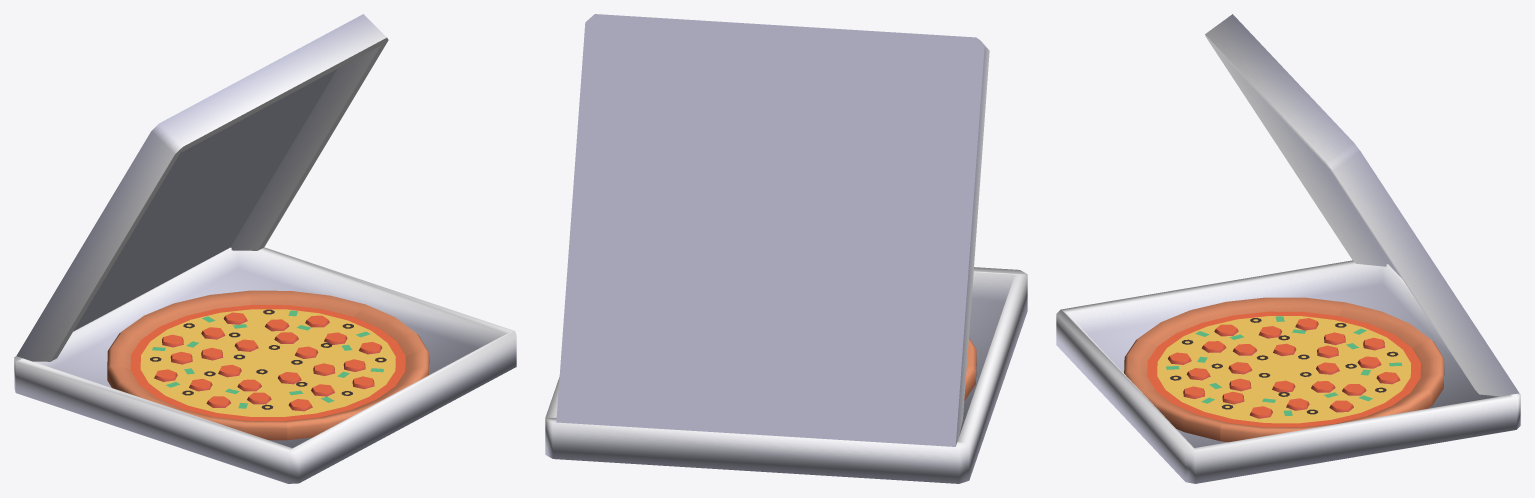
Rendered from pizza_02.glb.
3 views of the same model, side by side, from view 1: azimuth 30°, elevation 25°; view 2: azimuth 150°, elevation 25°; view 3: azimuth 270°, elevation 25° (orthographic). The views are drawn at different scales.
Parts seen in each view (by area): view 1: pizza.005; view 2: pizza.005; view 3: pizza.005.
Part boxes in pixels (x1,y1,x2,y2): pizza.005: (14, 14, 516, 483); pizza.005: (545, 14, 1027, 483); pizza.005: (1056, 14, 1520, 483).
Bounding box in the file's own units: 0.2183 × 0.158 × 0.2173.
Materials: 2 (2 with a texture image).
